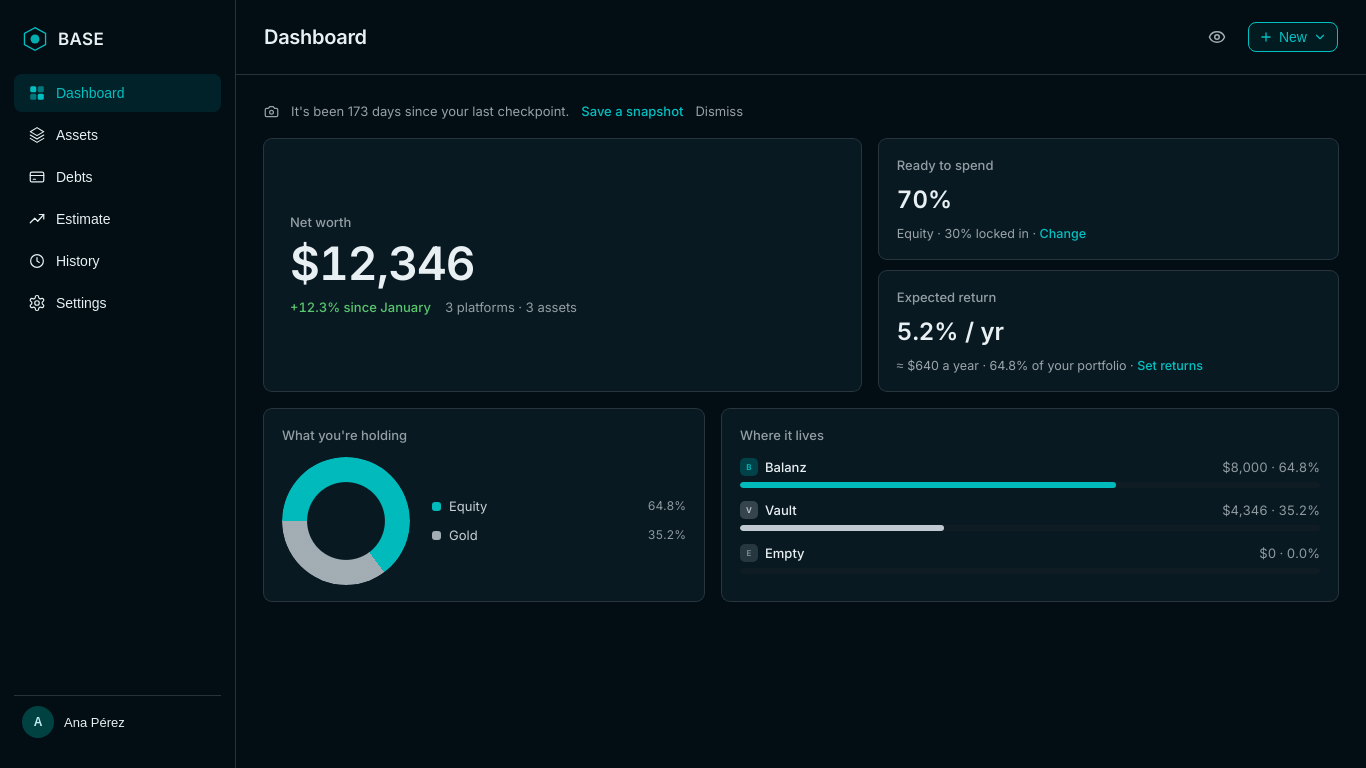
Test: an asset’s expected return › is in its panel, with a way to set one
The width and height of the screenshot is (1366, 768).
Expected: the text "$12,346" is shown, [290,235,475,291]
Click the button "Assets" at [118, 135], box [14,116,221,154]
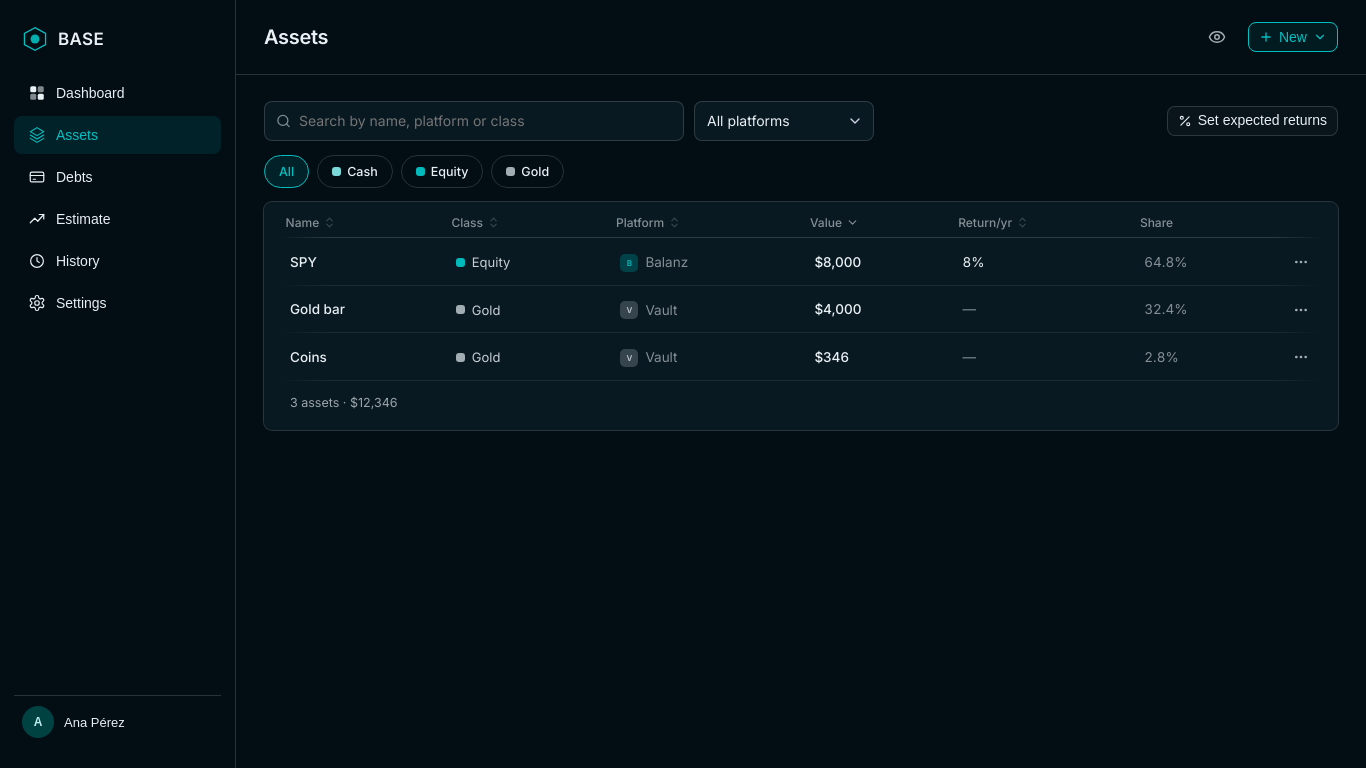
Click the button "SPY" at [303, 262], box [290,252,317,272]
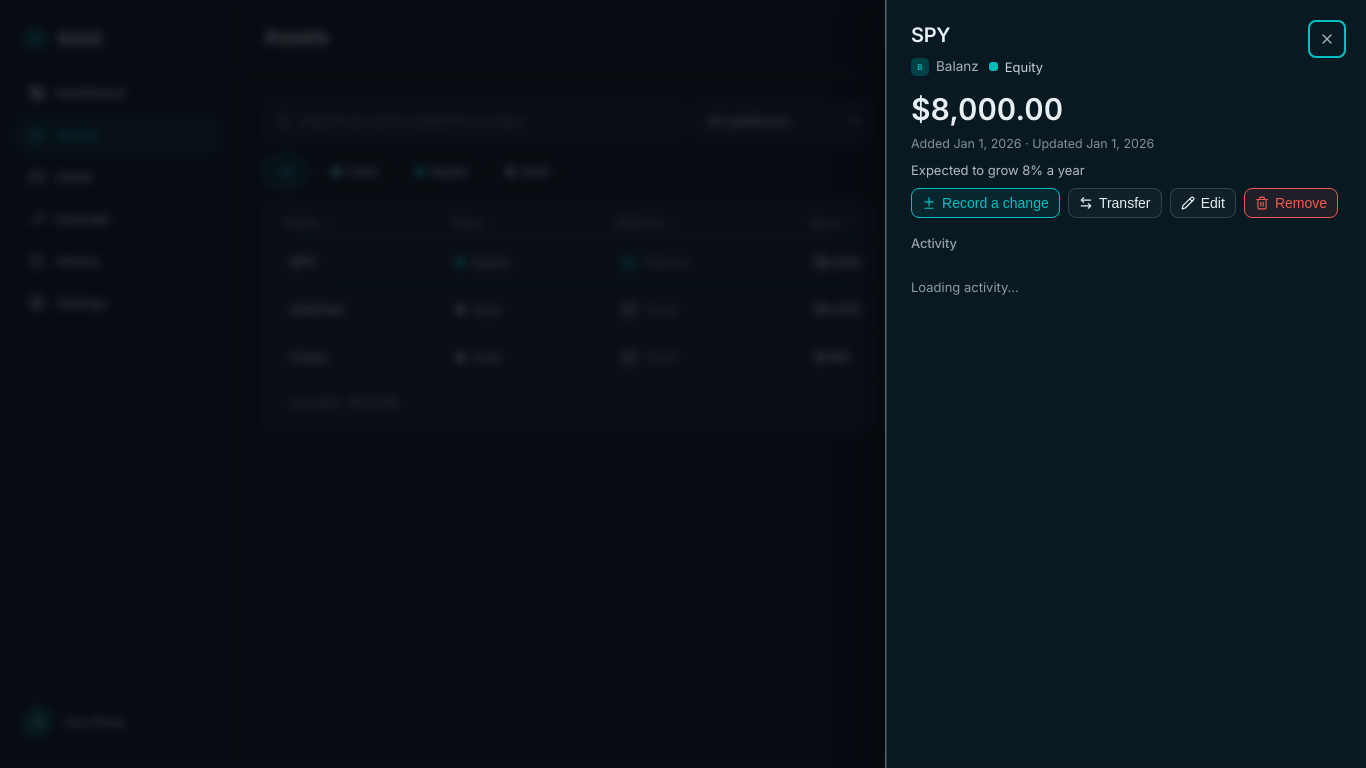
Result: the text "Expected to grow 8% a year" is shown at [911,162,1085,178]
Click the button named "Close" at [1327, 39], box [1312,24,1342,54]
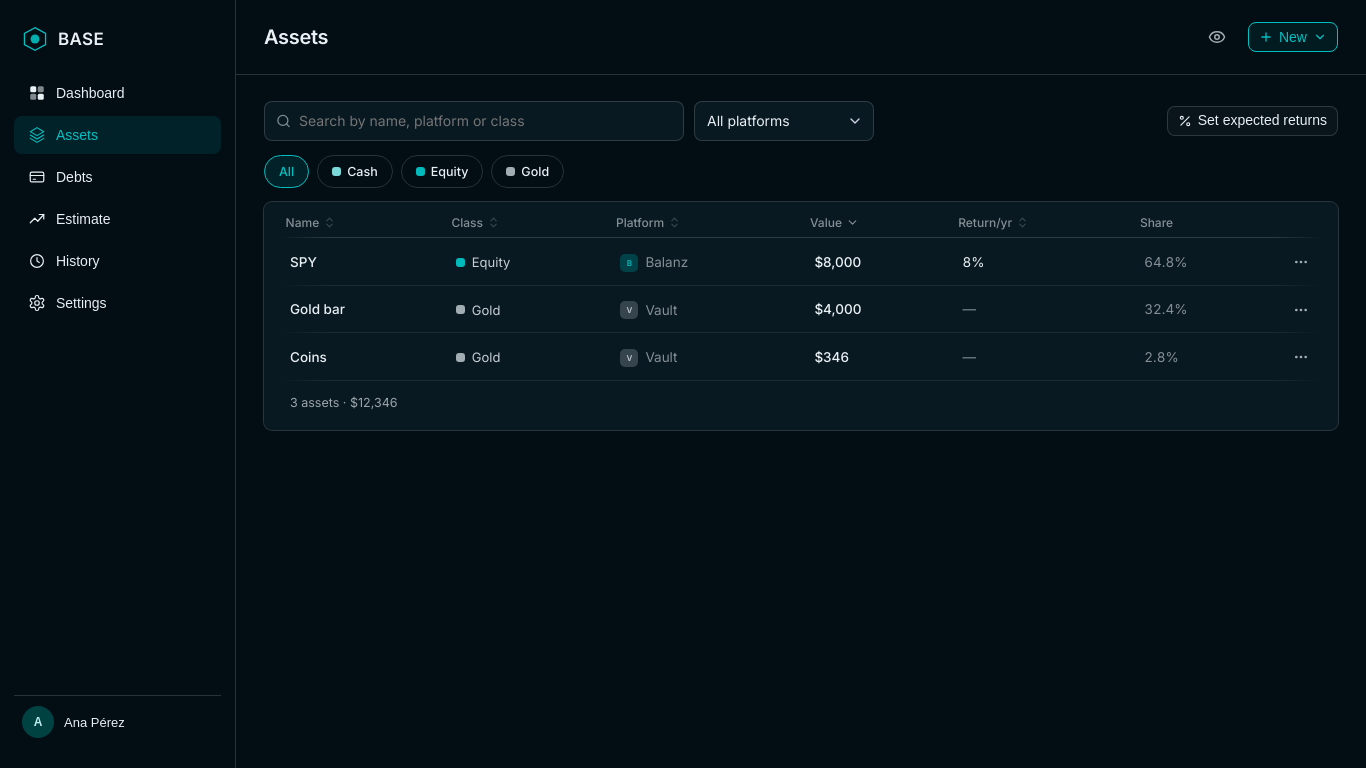
Click the button "Gold bar" at [318, 310], box [290,299,345,320]
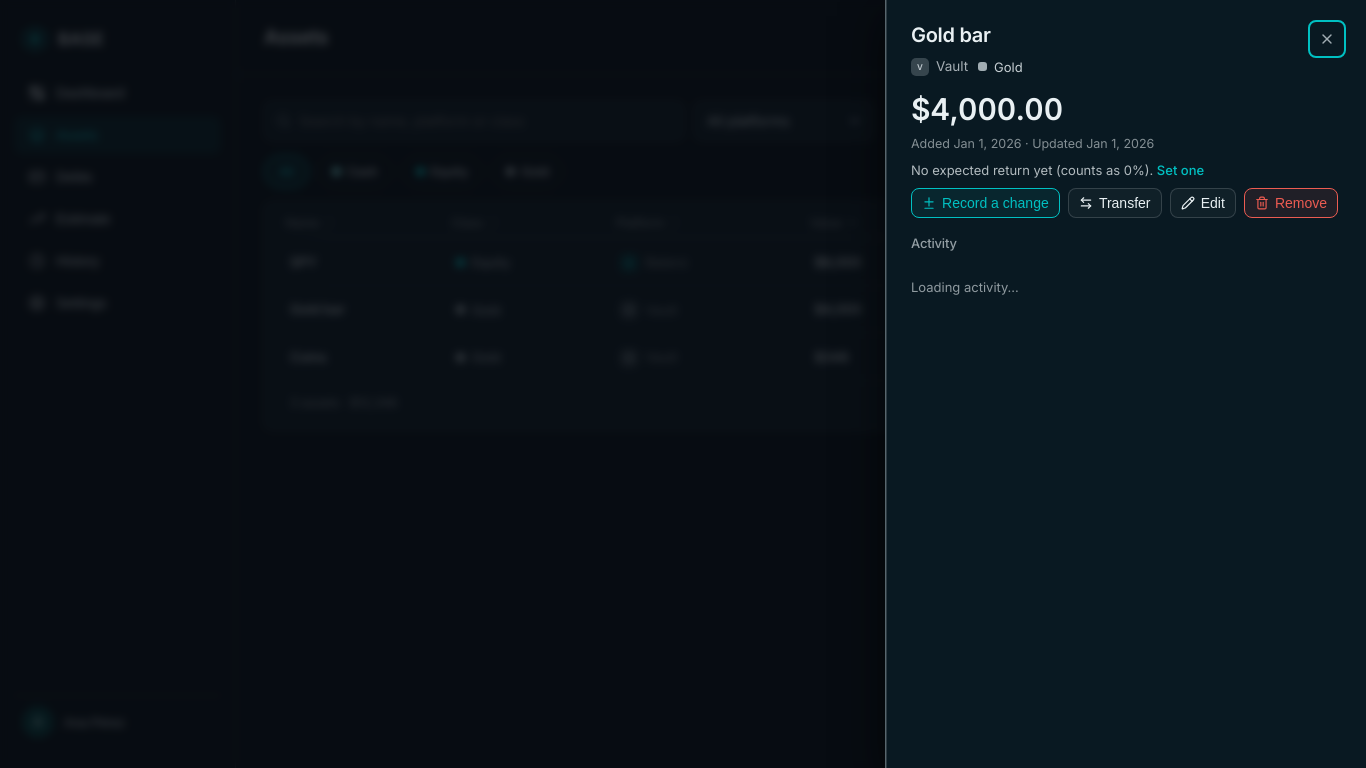
Result: the dialog "Gold bar" shows "No expected return yet (counts as 0%)." at [911,162,1153,178]
Click the button "Set one" at [1180, 170], box [1157,160,1204,180]
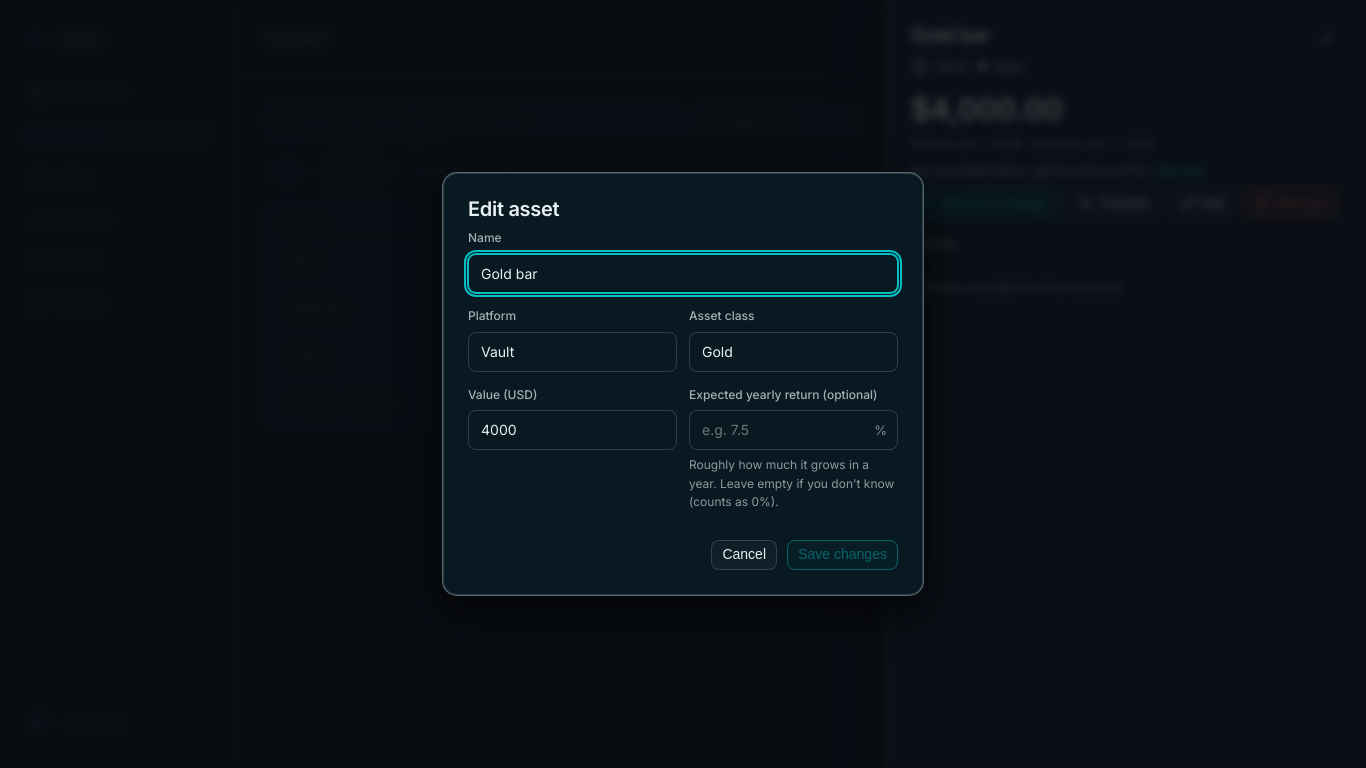
Result: the dialog "Edit asset" is shown at [443,173,923,595]
